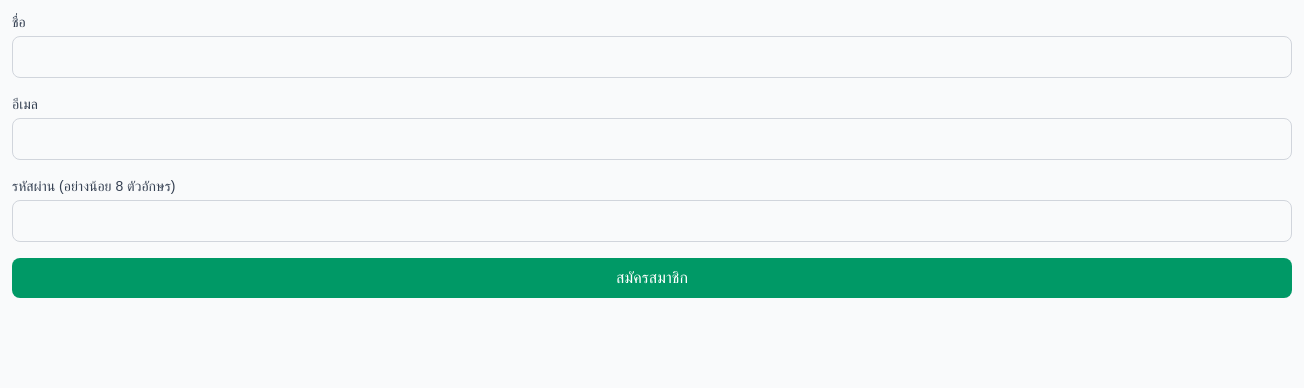
Test: <RegisterForm /> › clears a field error as soon as the user edits that field
Click the button "สมัครสมาชิก" at point(652, 278), box top-left (12, 258), bottom-right (1292, 298)
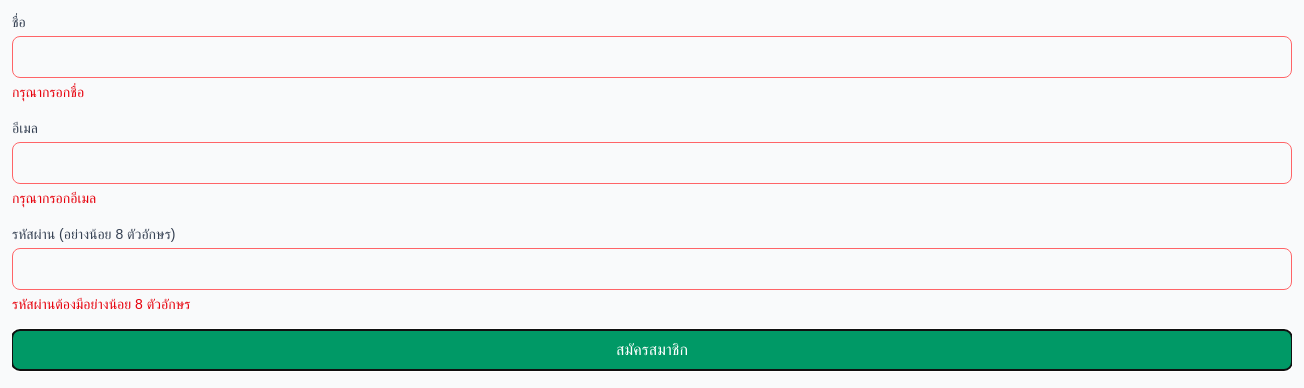
Type "ส" into the field labelled "ชื่อ" at point(652, 57), box top-left (12, 36), bottom-right (1292, 78)
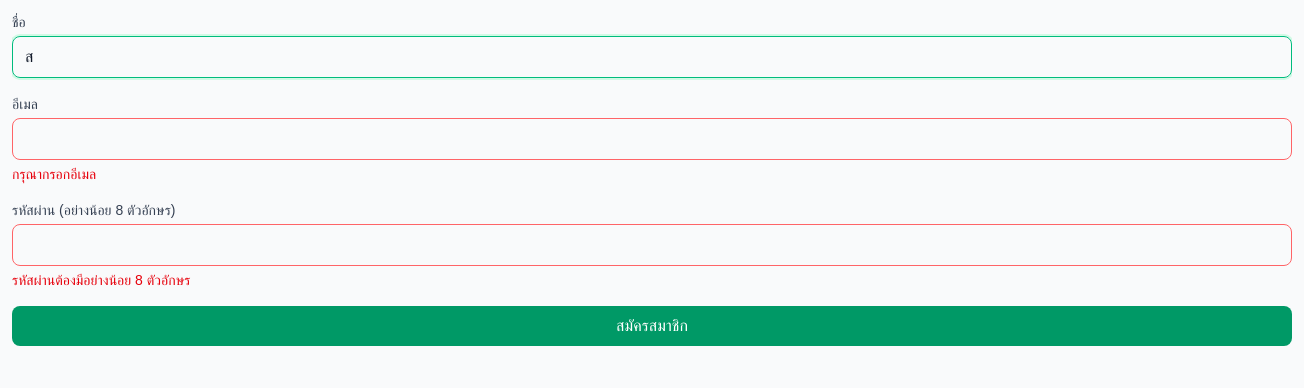
Expected: the text "กรุณากรอกอีเมล" is shown, top-left (12, 166), bottom-right (96, 182)
Expected: the text "กรุณากรอกชื่อ" is gone
